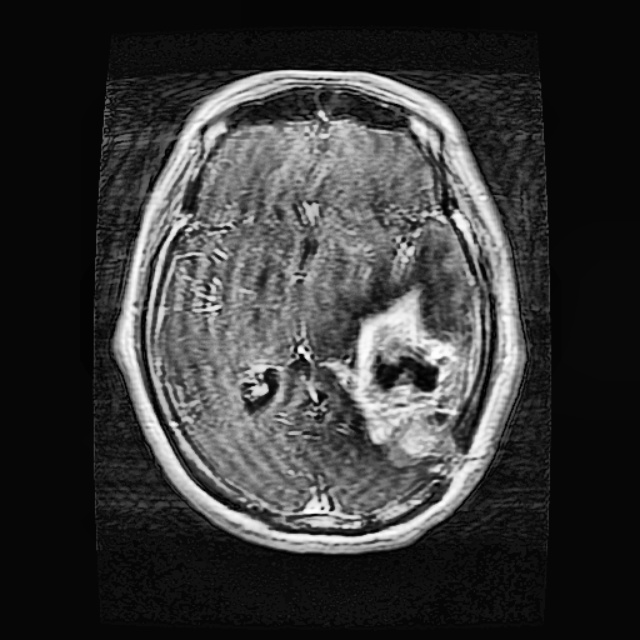Glioma: (325, 285, 483, 478)
